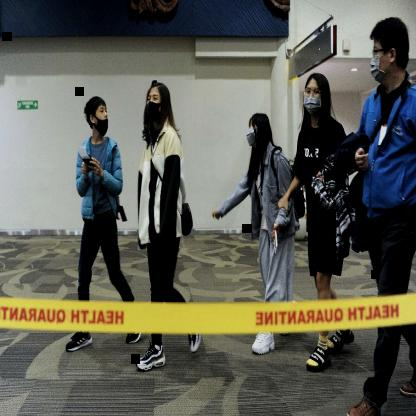mask: (363, 13, 413, 92), (138, 76, 178, 140), (79, 90, 117, 140), (296, 72, 334, 122), (242, 107, 275, 156)
